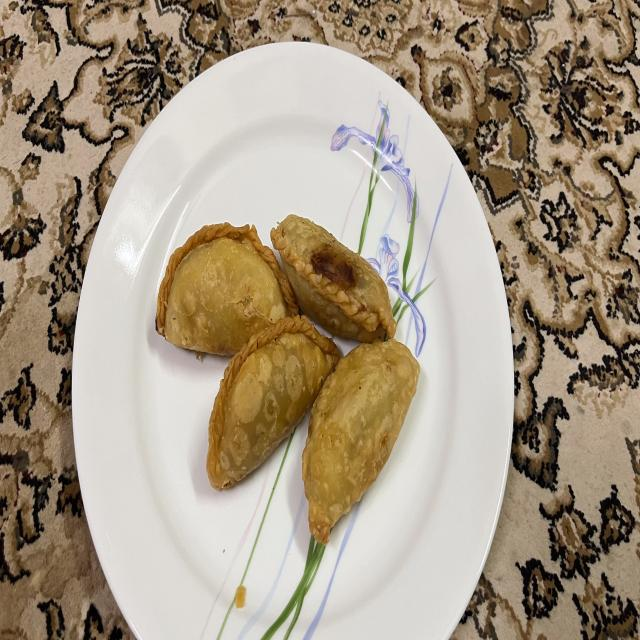karipap: (302, 339, 422, 541), (208, 316, 340, 489), (156, 222, 299, 356), (271, 216, 396, 342)
